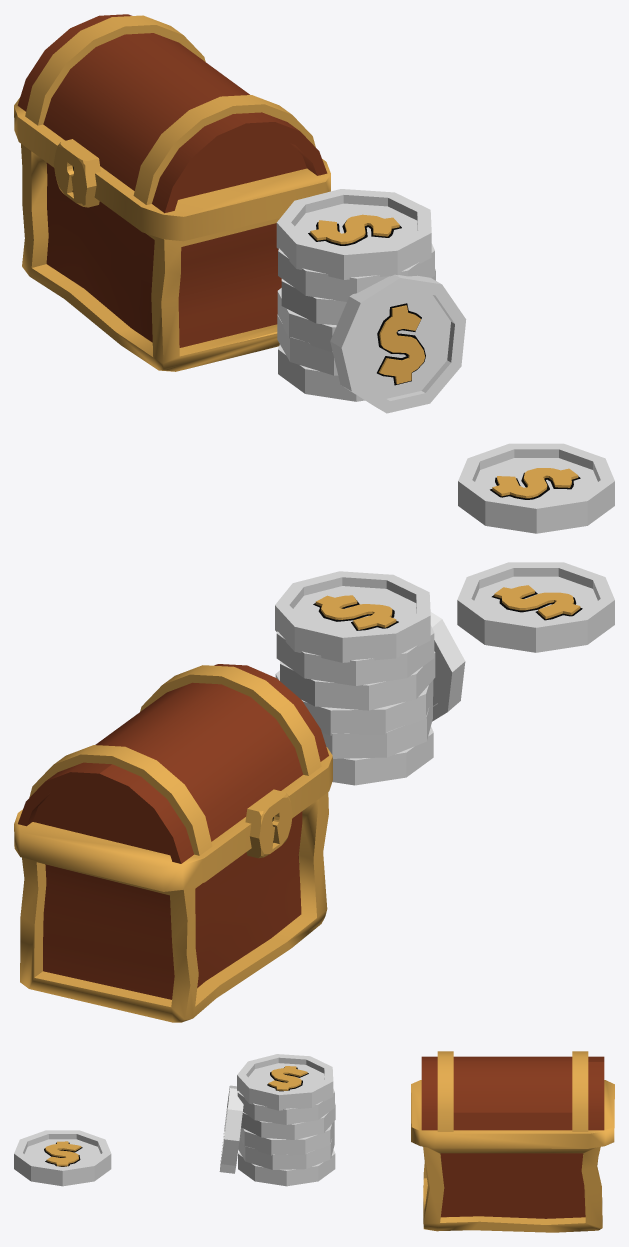
File: asset pack pet simulator.fbx
The picture shows the model from 3 angles, top to bottom: view 1: azimuth 30°, elevation 25°; view 2: azimuth 150°, elevation 25°; view 3: azimuth 270°, elevation 25°; orthographic projection. The views are drawn at different scales.
Parts seen in each view (by area): view 1: Plane.005, Cylinder.001, Cube, Cube.003, Plane.007, Cylinder, Cube.001; view 2: Plane.005, Cylinder.001, Cube, Cube.003, Plane.007, Cylinder, Cube.001; view 3: Plane.005, Cylinder.001, Cube, Cube.003, Plane.007, Cylinder.
Boxes of the visible parts, box(x1,y1,x2,y2) form: Plane.005: box(276, 189, 466, 413); Cylinder.001: box(17, 14, 327, 213); Cube: box(14, 98, 330, 371); Cube.003: box(46, 163, 281, 347); Plane.007: box(458, 443, 614, 533); Cylinder: box(25, 15, 315, 204); Cube.001: box(53, 139, 100, 207); Plane.005: box(275, 571, 465, 785); Cylinder.001: box(18, 664, 328, 863); Cube: box(14, 747, 332, 1022); Cube.003: box(43, 811, 302, 999); Plane.007: box(457, 562, 614, 652); Cylinder: box(29, 665, 321, 855); Cube.001: box(245, 789, 292, 858); Plane.005: box(219, 1054, 335, 1186); Cylinder.001: box(421, 1056, 604, 1130); Cube: box(411, 1080, 614, 1232); Cube.003: box(440, 1153, 585, 1218); Plane.007: box(14, 1130, 111, 1186); Cylinder: box(437, 1051, 588, 1131).
Size of the model in its own units: 283 by 337 by 1214.
